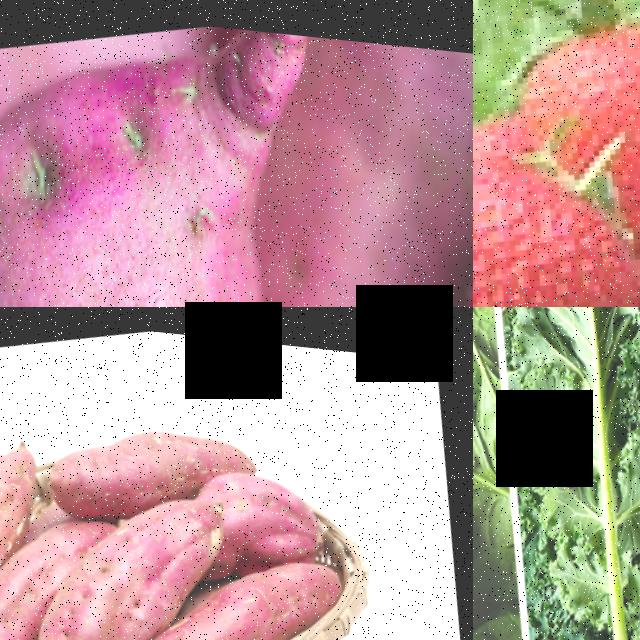strawberry: (473, 121, 640, 307), (507, 0, 640, 177)
sweet potato: (0, 0, 432, 307), (6, 466, 272, 640), (36, 386, 272, 534), (95, 522, 376, 640), (194, 438, 339, 573), (0, 418, 81, 640)
